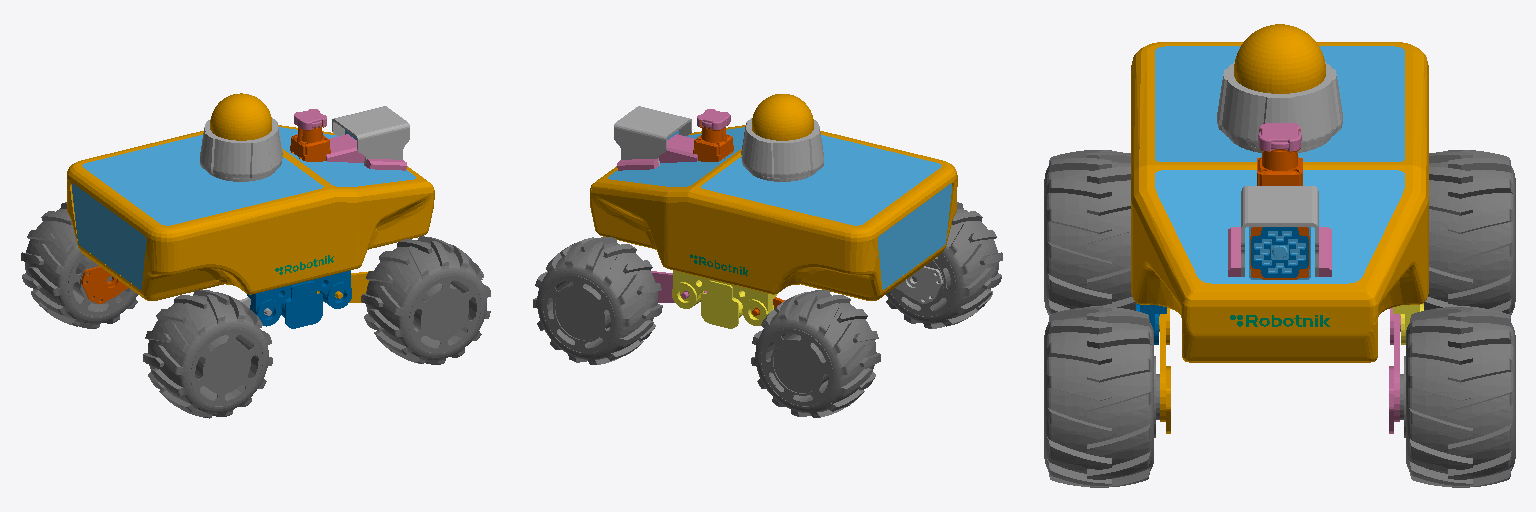
--- What the picture shows (computed from the rendered views, not written in the file) ---
Views: 3 orthographic renders of the robot side by side, from view 1: azimuth 30°, elevation 25°; view 2: azimuth 150°, elevation 25°; view 3: azimuth 270°, elevation 25°.
Robot: summit_xl — 32 links, 31 joints (8 continuous, 23 fixed); root link base_link; default pose: all joints at 0.
Visible links, largest first — view 1: base_link, cover_link, front_right_tyre, back_right_tyre, back_left_tyre, bar_holder_right, camera_link, back_right_hubcap, front_right_hubcap, fotonic_5_link, camera_link_sphere, fotonic_4_link (+4 smaller); view 2: base_link, cover_link, back_left_tyre, front_left_tyre, back_right_tyre, bar_holder_left, camera_link, fotonic_5_link, camera_link_sphere, front_left_wheel, back_left_wheel, back_left_hubcap (+7 smaller); view 3: base_link, cover_link, front_right_tyre, front_left_tyre, back_left_tyre, back_right_tyre, camera_link, camera_link_sphere, fotonic_5_link, hokuyo_laser_link, fotonic_2_link, fotonic_4_link (+6 smaller).
Boxes of the visible links, x1=… form: base_link: x1=67, y1=125, x2=434, y2=300; cover_link: x1=72, y1=127, x2=415, y2=289; front_right_tyre: x1=361, y1=236, x2=490, y2=364; back_right_tyre: x1=143, y1=290, x2=272, y2=418; back_left_tyre: x1=21, y1=202, x2=137, y2=328; bar_holder_right: x1=247, y1=270, x2=351, y2=328; camera_link: x1=200, y1=118, x2=282, y2=181; back_right_hubcap: x1=191, y1=329, x2=262, y2=405; front_right_hubcap: x1=409, y1=276, x2=480, y2=352; fotonic_5_link: x1=332, y1=106, x2=409, y2=165; camera_link_sphere: x1=210, y1=93, x2=271, y2=140; fotonic_4_link: x1=326, y1=134, x2=406, y2=170; base_link: x1=590, y1=125, x2=957, y2=300; cover_link: x1=608, y1=127, x2=951, y2=289; back_left_tyre: x1=751, y1=290, x2=880, y2=417; front_left_tyre: x1=533, y1=237, x2=662, y2=364; back_right_tyre: x1=886, y1=202, x2=1002, y2=328; bar_holder_left: x1=672, y1=270, x2=776, y2=328; camera_link: x1=741, y1=118, x2=823, y2=181; fotonic_5_link: x1=614, y1=106, x2=691, y2=165; camera_link_sphere: x1=752, y1=94, x2=813, y2=140; front_left_wheel: x1=555, y1=284, x2=610, y2=339; back_left_wheel: x1=774, y1=334, x2=828, y2=392; back_left_hubcap: x1=761, y1=329, x2=832, y2=405; base_link: x1=1131, y1=42, x2=1428, y2=362; cover_link: x1=1155, y1=46, x2=1404, y2=283; front_right_tyre: x1=1044, y1=307, x2=1153, y2=487; front_left_tyre: x1=1406, y1=307, x2=1515, y2=487; back_left_tyre: x1=1424, y1=150, x2=1515, y2=316; back_right_tyre: x1=1044, y1=150, x2=1135, y2=316; camera_link: x1=1217, y1=62, x2=1342, y2=152; camera_link_sphere: x1=1234, y1=24, x2=1325, y2=93; fotonic_5_link: x1=1241, y1=186, x2=1318, y2=276; hokuyo_laser_link: x1=1257, y1=129, x2=1302, y2=185; fotonic_2_link: x1=1251, y1=227, x2=1308, y2=277; fotonic_4_link: x1=1228, y1=227, x2=1331, y2=276.
Size in the robot's own frame: 0.7159 by 0.6105 by 0.5173 metres.
Meshes: 18 distinct files referenced, 30 mesh visuals loaded (18 Collada DAE).

The robot description file, URDF, robot "summit_xl":
<?xml version="1.0" ?>
<!-- =================================================================================== -->
<!-- |    This document was autogenerated by xacro from summit_xl_vrep.urdf.xacro      | -->
<!-- |    EDITING THIS FILE BY HAND IS NOT RECOMMENDED                                 | -->
<!-- =================================================================================== -->
<robot name="summit_xl" xmlns:xacro="http://www.ros.org/wiki/xacro">
  <!-- Import all Gazebo-customization elements, including Gazebo colors -->
  <!-- xacro:include filename="$(find summit_xl_description)/urdf/summit_xl_hq.gazebo" / -->
  <!-- Robot mechanical and motor parameters -->
  <!-- x,y,z in base_footprint CS -->
  <!-- BASE_LINK (RED) -->
  <link name="base_link">
    <inertial>
      <mass value="25.0"/>
      <origin xyz="0 0 0"/>
      <inertia ixx="1.391" ixy="0.004" ixz="0.0" iyy="6.853" iyz="0.0" izz="6.125"/>
    </inertial>
    <visual>
      <origin rpy="0 0 0" xyz="0 0 0"/>
      <geometry>
        <mesh filename="package://meshes/hq_suspension/xl_chassis.dae"/>
      </geometry>
    </visual>
    <collision>
      <origin rpy="0 0 0 " xyz="0 0 0"/>
      <geometry>
        <mesh filename="package://meshes/hq_suspension/xl_chassis.dae"/>
      </geometry>
    </collision>
  </link>
  <!-- Robot covers (gray) -->
  <link name="cover_link">
    <inertial>
      <mass value="0.1"/>
      <origin xyz="0 0 0"/>
      <inertia ixx="0.001" ixy="0.0" ixz="0.0" iyy="0.001" iyz="0.0" izz="0.001"/>
    </inertial>
    <visual>
      <origin rpy="0 0 0" xyz="0 0 0"/>
      <geometry>
        <mesh filename="package://meshes/hq_suspension/xl_covers.dae"/>
      </geometry>
    </visual>
    <collision>
      <origin rpy="0 0 0 " xyz="0 0 0"/>
      <geometry>
        <mesh filename="package://meshes/hq_suspension/xl_covers.dae"/>
      </geometry>
    </collision>
  </link>
  <joint name="covers_joint" type="fixed">
    <origin rpy="0 0 0" xyz="0 0 0"/>
    <parent link="base_link"/>
    <child link="cover_link"/>
  </joint>
  <!-- ROBOTNIK LOGOS -->
  <!-- RED -->
  <link name="logo_red">
    <inertial>
      <mass value="1.0"/>
      <origin xyz="0 0 0"/>
      <inertia ixx="0.001" ixy="0.0" ixz="0.0" iyy="0.001" iyz="0.0" izz="0.001"/>
    </inertial>
    <visual>
      <origin rpy="0 0 0" xyz="0 0 0"/>
      <geometry>
        <mesh filename="package://meshes/hq_suspension/xl_logo_red.dae"/>
      </geometry>
    </visual>
    <!-- collision>
       <origin xyz="0 0 0" rpy="0 0 0 " />
       <geometry>
	     <box size = "0.001 0.001 0.001"/>
       </geometry>
    </collision -->
  </link>
  <joint name="logo_red_joint" type="fixed">
    <origin rpy="0 0 0" xyz="0 0 0"/>
    <parent link="base_link"/>
    <child link="logo_red"/>
  </joint>
  <!-- SUSPENSION BAR HOLDER -->
  <link name="bar_holder_left">
    <inertial>
      <mass value="1.0"/>
      <origin xyz="0 0 0"/>
      <inertia ixx="0.001" ixy="0.0" ixz="0.0" iyy="0.001" iyz="0.0" izz="0.001"/>
    </inertial>
    <visual>
      <origin rpy="0 0 0" xyz="0 0 0"/>
      <geometry>
        <mesh filename="package://meshes/hq_suspension/bar_holder.dae"/>
      </geometry>
    </visual>
    <collision>
      <origin rpy="0 0 0 " xyz="0 0 0"/>
      <geometry>
        <mesh filename="package://meshes/hq_suspension/bar_holder.dae"/>
        <!-- box size = "0.750 0.4 0.3"/ -->
      </geometry>
    </collision>
  </link>
  <joint name="bar_holder_left_joint" type="fixed">
    <origin rpy="0 0 0" xyz="0 0.164 0.0"/>
    <parent link="base_link"/>
    <child link="bar_holder_left"/>
  </joint>
  <!-- SUSPENSION BAR HOLDER -->
  <link name="bar_holder_right">
    <inertial>
      <mass value="1.0"/>
      <origin xyz="0 0 0"/>
      <inertia ixx="0.001" ixy="0.0" ixz="0.0" iyy="0.001" iyz="0.0" izz="0.001"/>
    </inertial>
    <visual>
      <origin rpy="0 0 0" xyz="0 0 0"/>
      <geometry>
        <mesh filename="package://meshes/hq_suspension/bar_holder.dae"/>
      </geometry>
    </visual>
    <collision>
      <origin rpy="0 0 0 " xyz="0 0 0"/>
      <geometry>
        <mesh filename="package://meshes/hq_suspension/bar_holder.dae"/>
      </geometry>
    </collision>
  </link>
  <joint name="bar_holder_right_joint" type="fixed">
    <origin rpy="0 0 3.1416" xyz="0 -0.164 0.0"/>
    <parent link="base_link"/>
    <child link="bar_holder_right"/>
  </joint>
  <!-- SUSPENSION BARS -->
  <!-- SUSPENSION BARS -->
  <!-- SUSPENSION BARS -->
  <!-- SUSPENSION BARS -->
  <!-- SUSPENSION BAR BL -->
  <link name="bar_bl">
    <inertial>
      <mass value="1.0"/>
      <origin xyz="0 0 0"/>
      <inertia ixx="0.001" ixy="0.0" ixz="0.0" iyy="0.001" iyz="0.0" izz="0.001"/>
    </inertial>
    <visual>
      <origin rpy="0 0 0" xyz="0 0 0"/>
      <geometry>
        <mesh filename="package://meshes/hq_suspension/suspension_bar2.dae"/>
      </geometry>
    </visual>
    <collision>
      <origin rpy="0 0 0 " xyz="0 0 0"/>
      <geometry>
        <mesh filename="package://meshes/hq_suspension/suspension_bar2.dae"/>
      </geometry>
    </collision>
  </link>
  <joint name="bar_bl_joint" type="continuous">
    <axis xyz="0 0 1"/>
    <!-- origin xyz="-0.078 0.164 -0.048" rpy="0 0 0" / -->
    <!-- origin xyz="-0.078 0.164 -0.048" rpy="-1.5708 -0.174532925 0" / -->
    <origin rpy="1.5708 -0.174532925 0" xyz="-0.078 0.164 -0.048"/>
    <parent link="base_link"/>
    <child link="bar_bl"/>
    <limit effort="100.0" lower="-0.45" upper="-0.25" velocity="100.0"/>
  </joint>
  <!-- SUSPENSION BAR FL -->
  <link name="bar_fl">
    <inertial>
      <mass value="1.0"/>
      <origin xyz="0 0 0"/>
      <inertia ixx="0.001" ixy="0.0" ixz="0.0" iyy="0.001" iyz="0.0" izz="0.001"/>
    </inertial>
    <visual>
      <origin rpy="0 0 0" xyz="0 0 0"/>
      <geometry>
        <mesh filename="package://meshes/hq_suspension/suspension_bar1.dae"/>
      </geometry>
    </visual>
    <collision>
      <origin rpy="0 0 0 " xyz="0 0 0"/>
      <geometry>
        <mesh filename="package://meshes/hq_suspension/suspension_bar1.dae"/>
      </geometry>
    </collision>
  </link>
  <joint name="bar_fl_joint" type="continuous">
    <axis xyz="0 0 1"/>
    <origin rpy="1.5708 -0.174532925 3.1416" xyz="0.078 0.164 -0.048"/>
    <parent link="base_link"/>
    <child link="bar_fl"/>
    <limit effort="100.0" lower="0.25" upper="0.45" velocity="100.0"/>
  </joint>
  <!-- SUSPENSION BAR BR -->
  <link name="bar_br">
    <inertial>
      <mass value="1.0"/>
      <origin xyz="0 0 0"/>
      <inertia ixx="0.001" ixy="0.0" ixz="0.0" iyy="0.001" iyz="0.0" izz="0.001"/>
    </inertial>
    <visual>
      <origin rpy="0 0 0" xyz="0 0 0"/>
      <geometry>
        <mesh filename="package://meshes/hq_suspension/suspension_bar1.dae"/>
      </geometry>
    </visual>
    <collision>
      <origin rpy="0 0 0 " xyz="0 0 0"/>
      <geometry>
        <mesh filename="package://meshes/hq_suspension/suspension_bar1.dae"/>
      </geometry>
    </collision>
  </link>
  <joint name="bar_br_joint" type="continuous">
    <axis xyz="0 0 1"/>
    <origin rpy="1.5708 -0.174532925 0" xyz="-0.078 -0.164 -0.048"/>
    <parent link="base_link"/>
    <child link="bar_br"/>
    <limit effort="100.0" lower="-0.45" upper="-0.25" velocity="100.0"/>
  </joint>
  <!-- SUSPENSION BAR FR -->
  <link name="bar_fr">
    <inertial>
      <mass value="1.0"/>
      <origin xyz="0 0 0"/>
      <inertia ixx="0.001" ixy="0.0" ixz="0.0" iyy="0.001" iyz="0.0" izz="0.001"/>
    </inertial>
    <visual>
      <origin rpy="0 0 0" xyz="0 0 0"/>
      <geometry>
        <mesh filename="package://meshes/hq_suspension/suspension_bar2.dae"/>
      </geometry>
    </visual>
    <collision>
      <origin rpy="0 0 0 " xyz="0 0 0"/>
      <geometry>
        <mesh filename="package://meshes/hq_suspension/suspension_bar2.dae"/>
      </geometry>
    </collision>
  </link>
  <joint name="bar_fr_joint" type="continuous">
    <axis xyz="0 0 1"/>
    <!-- origin xyz="0.078 -0.164 -0.048" rpy="-1.5708 -0.174532925 3.1416" / -->
    <origin rpy="1.5708 -0.174532925 3.1416" xyz="0.078 -0.164 -0.048"/>
    <parent link="base_link"/>
    <child link="bar_fr"/>
    <limit effort="100.0" lower="0.25" upper="0.45" velocity="100.0"/>
  </joint>
  <!-- WHEEL MOTORS -->
  <!-- WHEEL MOTORS -->
  <!-- WHEEL MOTORS -->
  <!-- WHEEL MOTORS -->
  <!-- BACK LEFT WHEEL (GREY) -->
  <link name="back_left_wheel">
    <inertial>
      <mass value="1.250"/>
      <origin xyz="0 0 0"/>
      <inertia ixx="0.0109375" ixy="0.0" ixz="0.0" iyy="0.021125" iyz="0.0" izz="0.0109375"/>
    </inertial>
    <visual>
      <origin rpy="0 0 3.1416" xyz="0 0 0"/>
      <geometry>
        <mesh filename="package://meshes/hq_suspension/wheel/xl_wheel_motor.dae" scale="1.0 1.0 1.0"/>
        <!-- cylinder radius="0.125" length="0.1"/ -->
      </geometry>
      <material name="grey">
        <color rgba="0.5 0.5 0.5 1"/>
      </material>
    </visual>
    <collision>
      <origin rpy="0 0 0" xyz="0 0 0"/>
      <geometry>
        <mesh filename="package://meshes/hq_suspension/wheel/xl_wheel_motor.dae" scale="1.0 1.0 1.0"/>
        <!-- cylinder radius="0.125" length="0.1"/ -->
      </geometry>
    </collision>
  </link>
  <joint name="joint_back_left_wheel" type="continuous">
    <parent link="bar_bl"/>
    <child link="back_left_wheel"/>
    <!-- origin xyz="-${wheel_offset_x} ${wheel_offset_y} 0" rpy="1.5708 0 0" / -->
    <origin rpy="1.5708 3.1416 0" xyz="-0.165 0.0 -0.07"/>
    <axis rpy="0 0 0" xyz="0 1 0"/>
    <limit effort="100.0" velocity="100.0"/>
    <joint_properties damping="0.0" friction="{wheel_joint_friction}"/>
  </joint>
  <transmission name="joint_blw_trans">
    <type>transmission_interface/SimpleTransmission</type>
    <joint name="joint_back_left_wheel"/>
    <actuator name="joint_blw_motor">
      <hardwareInterface>EffortJointInterface</hardwareInterface>
      <!-- hardwareInterface>VelocityJointInterface</hardwareInterface -->
      <mechanicalReduction>1.0</mechanicalReduction>
      <!-- motorTorqueConstant>1</motorTorqueConstant -->
    </actuator>
  </transmission>
  <!-- BACK RIGHT WHEEL (GREY) -->
  <link name="back_right_wheel">
    <inertial>
      <mass value="1.250"/>
      <origin xyz="0 0 0"/>
      <inertia ixx="0.0109375" ixy="0.0" ixz="0.0" iyy="0.021125" iyz="0.0" izz="0.0109375"/>
    </inertial>
    <visual>
      <origin rpy="0 0 3.1416" xyz="0 0 0"/>
      <geometry>
        <mesh filename="package://meshes/hq_suspension/wheel/xl_wheel_motor.dae" scale="1.0 1.0 1.0"/>
      </geometry>
      <material name="grey">
        <color rgba="0.5 0.5 0.5 1"/>
      </material>
    </visual>
    <collision>
      <origin rpy="0 0 0" xyz="0 0 0"/>
      <geometry>
        <mesh filename="package://meshes/hq_suspension/wheel/xl_wheel_motor.dae" scale="1.0 1.0 1.0"/>
      </geometry>
    </collision>
  </link>
  <joint name="joint_back_right_wheel" type="continuous">
    <parent link="bar_br"/>
    <child link="back_right_wheel"/>
    <!-- origin xyz="-${wheel_offset_x} -${wheel_offset_y} 0" rpy="0 0 3.1416" /> 
    <axis xyz="0 1 0" rpy="0 0 3.1416" / -->
    <origin rpy="1.5708 0 1.5708" xyz="-0.165 -0.0 0.07"/>
    <axis rpy="0 0 0" xyz="0 1 0"/>
    <limit effort="100.0" velocity="100.0"/>
    <joint_properties damping="0.0" friction="{wheel_joint_friction}"/>
  </joint>
  <transmission name="joint_brw_trans">
    <type>transmission_interface/SimpleTransmission</type>
    <joint name="joint_back_right_wheel"/>
    <actuator name="joint_brw_motor">
      <hardwareInterface>EffortJointInterface</hardwareInterface>
      <mechanicalReduction>1.0</mechanicalReduction>
    </actuator>
  </transmission>
  <!-- FRONT LEFT WHEEL (GREY) -->
  <link name="front_left_wheel">
    <inertial>
      <mass value="1.250"/>
      <origin xyz="0 0 0"/>
      <inertia ixx="0.0109375" ixy="0.0" ixz="0.0" iyy="0.021125" iyz="0.0" izz="0.0109375"/>
    </inertial>
    <visual>
      <origin rpy="0 0 3.1416" xyz="0 0 0"/>
      <geometry>
        <mesh filename="package://meshes/hq_suspension/wheel/xl_wheel_motor.dae" scale="1.0 1.0 1.0"/>
      </geometry>
      <material name="grey">
        <color rgba="0.5 0.5 0.5 1"/>
      </material>
    </visual>
    <collision>
      <origin rpy="0 0 0" xyz="0 0 0"/>
      <geometry>
        <mesh filename="package://meshes/hq_suspension/wheel/xl_wheel_motor.dae" scale="1.0 1.0 1.0"/>
        <!-- cylinder radius="0.125" length="0.1"/ -->
      </geometry>
    </collision>
  </link>
  <joint name="joint_front_left_wheel" type="continuous">
    <parent link="bar_fl"/>
    <child link="front_left_wheel"/>
    <origin rpy="1.5708 0 0" xyz="-0.165 0.0 0.07"/>
    <axis rpy="0 0 0" xyz="0 1 0"/>
    <limit effort="100.0" velocity="100.0"/>
    <joint_properties damping="0.0" friction="{wheel_joint_friction}"/>
  </joint>
  <transmission name="joint_flw_trans">
    <type>transmission_interface/SimpleTransmission</type>
    <joint name="joint_front_left_wheel"/>
    <actuator name="joint_flw_motor">
      <hardwareInterface>EffortJointInterface</hardwareInterface>
      <mechanicalReduction>1.0</mechanicalReduction>
    </actuator>
  </transmission>
  <!-- FRONT RIGHT WHEEL (GREY) -->
  <link name="front_right_wheel">
    <inertial>
      <mass value="1.250"/>
      <origin xyz="0 0 0"/>
      <inertia ixx="0.0109375" ixy="0.0" ixz="0.0" iyy="0.021125" iyz="0.0" izz="0.0109375"/>
    </inertial>
    <visual>
      <origin rpy="0 0 3.1416" xyz="0 0 0"/>
      <geometry>
        <mesh filename="package://meshes/hq_suspension/wheel/xl_wheel_motor.dae" scale="1.0 1.0 1.0"/>
      </geometry>
      <material name="grey">
        <color rgba="0.5 0.5 0.5 1"/>
      </material>
    </visual>
    <collision>
      <origin rpy="0 0 0" xyz="0 0 0"/>
      <geometry>
        <mesh filename="package://meshes/hq_suspension/wheel/xl_wheel_motor.dae" scale="1.0 1.0 1.0"/>
      </geometry>
    </collision>
  </link>
  <joint name="joint_front_right_wheel" type="continuous">
    <parent link="bar_fr"/>
    <child link="front_right_wheel"/>
    <origin rpy="1.5708 3.1416 0" xyz="-0.165 -0.0 -0.07"/>
    <axis rpy="0 0 0" xyz="0 1 0"/>
    <limit effort="100.0" velocity="100.0"/>
    <joint_properties damping="0.0" friction="{wheel_joint_friction}"/>
  </joint>
  <transmission name="joint_frw_trans">
    <type>transmission_interface/SimpleTransmission</type>
    <joint name="joint_front_right_wheel"/>
    <actuator name="joint_frw_motor">
      <hardwareInterface>EffortJointInterface</hardwareInterface>
      <mechanicalReduction>1.0</mechanicalReduction>
    </actuator>
  </transmission>
  <!-- WHEEL TYRES -->
  <!-- WHEEL TYRES -->
  <!-- WHEEL TYRES -->
  <!-- WHEEL TYRES -->
  <!-- BACK LEFT TYRE (BLACK) -->
  <link name="back_left_tyre">
    <inertial>
      <mass value="1.250"/>
      <origin xyz="0 0 0"/>
      <inertia ixx="0.0109375" ixy="0.0" ixz="0.0" iyy="0.021125" iyz="0.0" izz="0.0109375"/>
    </inertial>
    <visual>
      <origin rpy="0 0 3.1416" xyz="0 0 0"/>
      <geometry>
        <mesh filename="package://meshes/hq_suspension/wheel/xl_wheel_tyre.dae" scale="1.0 1.0 1.0"/>
      </geometry>
      <material name="grey">
        <color rgba="0.5 0.5 0.5 1"/>
      </material>
    </visual>
    <collision>
      <origin rpy="0 0 0" xyz="0 0 0"/>
      <geometry>
        <mesh filename="package://meshes/hq_suspension/wheel/wheel_simple_thread_2.dae" scale="1.0 1.0 1.0"/>
        <!-- cylinder radius="0.125" length="0.1"/ -->
      </geometry>
    </collision>
  </link>
  <joint name="joint_back_left_tyre" type="fixed">
    <parent link="back_left_wheel"/>
    <child link="back_left_tyre"/>
    <origin rpy="0 0 3.1416" xyz="0 0 0"/>
  </joint>
  <!-- BACK RIGHT TYRE (BLACK) -->
  <link name="back_right_tyre">
    <inertial>
      <mass value="1.250"/>
      <origin xyz="0 0 0"/>
      <inertia ixx="0.0109375" ixy="0.0" ixz="0.0" iyy="0.021125" iyz="0.0" izz="0.0109375"/>
    </inertial>
    <visual>
      <origin rpy="0 0 3.1416" xyz="0 0 0"/>
      <geometry>
        <mesh filename="package://meshes/hq_suspension/wheel/xl_wheel_tyre.dae" scale="1.0 1.0 1.0"/>
      </geometry>
      <material name="grey">
        <color rgba="0.5 0.5 0.5 1"/>
      </material>
    </visual>
    <collision>
      <origin rpy="0 0 0" xyz="0 0 0"/>
      <geometry>
        <mesh filename="package://meshes/hq_suspension/wheel/wheel_simple_thread_2.dae" scale="1.0 1.0 1.0"/>
        <!-- cylinder radius="0.125" length="0.1"/ -->
      </geometry>
    </collision>
  </link>
  <joint name="joint_back_right_tyre" type="fixed">
    <parent link="back_right_wheel"/>
    <child link="back_right_tyre"/>
    <origin rpy="0 0 0" xyz="0 0 0"/>
  </joint>
  <!-- FRONT LEFT TYRE (BLACK) -->
  <link name="front_left_tyre">
    <inertial>
      <mass value="1.250"/>
      <origin xyz="0 0 0"/>
      <inertia ixx="0.0109375" ixy="0.0" ixz="0.0" iyy="0.021125" iyz="0.0" izz="0.0109375"/>
    </inertial>
    <visual>
      <origin rpy="0 0 3.1416" xyz="0 0 0"/>
      <geometry>
        <mesh filename="package://meshes/hq_suspension/wheel/xl_wheel_tyre.dae" scale="1.0 1.0 1.0"/>
      </geometry>
      <material name="grey">
        <color rgba="0.5 0.5 0.5 1"/>
      </material>
    </visual>
    <collision>
      <origin rpy="0 0 0" xyz="0 0 0"/>
      <geometry>
        <mesh filename="package://meshes/hq_suspension/wheel/wheel_simple_thread_2.dae" scale="1.0 1.0 1.0"/>
      </geometry>
    </collision>
  </link>
  <joint name="joint_front_left_tyre" type="fixed">
    <parent link="front_left_wheel"/>
    <child link="front_left_tyre"/>
    <origin rpy="0 0 3.1416" xyz="0 0 0"/>
  </joint>
  <!-- FRONT RIGHT TYRE (BLACK) -->
  <link name="front_right_tyre">
    <inertial>
      <mass value="1.250"/>
      <origin xyz="0 0 0"/>
      <inertia ixx="0.0109375" ixy="0.0" ixz="0.0" iyy="0.021125" iyz="0.0" izz="0.0109375"/>
    </inertial>
    <visual>
      <origin rpy="0 0 3.1416" xyz="0 0 0"/>
      <geometry>
        <mesh filename="package://meshes/hq_suspension/wheel/xl_wheel_tyre.dae" scale="1.0 1.0 1.0"/>
      </geometry>
      <material name="grey">
        <color rgba="0.5 0.5 0.5 1"/>
      </material>
    </visual>
    <collision>
      <origin rpy="0 0 0" xyz="0 0 0"/>
      <geometry>
        <mesh filename="package://meshes/hq_suspension/wheel/wheel_simple_thread_2.dae" scale="1.0 1.0 1.0"/>
      </geometry>
    </collision>
  </link>
  <joint name="joint_front_right_tyre" type="fixed">
    <parent link="front_right_wheel"/>
    <child link="front_right_tyre"/>
    <origin rpy="0 0 0" xyz="0 0 0"/>
  </joint>
  <!-- WHEEL HUBCAPS -->
  <!-- WHEEL HUBCAPS -->
  <!-- WHEEL HUBCAPS -->
  <!-- WHEEL HUBCAPS -->
  <!-- BACK LEFT HUBCUP (LIGHT GREY) -->
  <link name="back_left_hubcap">
    <inertial>
      <mass value="1.250"/>
      <origin xyz="0 0 0"/>
      <inertia ixx="0.0109375" ixy="0.0" ixz="0.0" iyy="0.021125" iyz="0.0" izz="0.0109375"/>
    </inertial>
    <visual>
      <origin rpy="0 0 3.1416" xyz="0 0 0"/>
      <geometry>
        <mesh filename="package://meshes/hq_suspension/wheel/xl_wheel_hubcap.dae" scale="1.0 1.0 1.0"/>
      </geometry>
      <material name="grey">
        <color rgba="0.5 0.5 0.5 1"/>
      </material>
    </visual>
  </link>
  <joint name="joint_back_left_hubcap" type="fixed">
    <parent link="back_left_wheel"/>
    <child link="back_left_hubcap"/>
    <origin rpy="0 0 3.1416" xyz="0 0 0"/>
  </joint>
  <!-- BACK RIGHT HUBCUP (LIGHT GREY) -->
  <link name="back_right_hubcap">
    <inertial>
      <mass value="1.250"/>
      <origin xyz="0 0 0"/>
      <inertia ixx="0.0109375" ixy="0.0" ixz="0.0" iyy="0.021125" iyz="0.0" izz="0.0109375"/>
    </inertial>
    <visual>
      <origin rpy="0 0 3.1416" xyz="0 0 0"/>
      <geometry>
        <mesh filename="package://meshes/hq_suspension/wheel/xl_wheel_hubcap.dae" scale="1.0 1.0 1.0"/>
      </geometry>
      <material name="grey">
        <color rgba="0.5 0.5 0.5 1"/>
      </material>
    </visual>
  </link>
  <joint name="joint_back_right_hubcap" type="fixed">
    <parent link="back_right_wheel"/>
    <child link="back_right_hubcap"/>
    <origin rpy="0 0 0" xyz="0 0 0"/>
  </joint>
  <!-- FRONT LEFT HUBCUP (LIGHT GREY) -->
  <link name="front_left_hubcap">
    <inertial>
      <mass value="1.250"/>
      <origin xyz="0 0 0"/>
      <inertia ixx="0.0109375" ixy="0.0" ixz="0.0" iyy="0.021125" iyz="0.0" izz="0.0109375"/>
    </inertial>
    <visual>
      <origin rpy="0 0 3.1416" xyz="0 0 0"/>
      <geometry>
        <mesh filename="package://meshes/hq_suspension/wheel/xl_wheel_hubcap.dae" scale="1.0 1.0 1.0"/>
      </geometry>
      <material name="grey">
        <color rgba="0.5 0.5 0.5 1"/>
      </material>
    </visual>
  </link>
  <joint name="joint_front_left_hubcap" type="fixed">
    <parent link="front_left_wheel"/>
    <child link="front_left_hubcap"/>
    <origin rpy="0 0 3.1416" xyz="0 0 0"/>
  </joint>
  <!-- FRONT RIGHT HUBCUP (LIGHT GREY) -->
  <link name="front_right_hubcap">
    <inertial>
      <mass value="1.250"/>
      <origin xyz="0 0 0"/>
      <inertia ixx="0.0109375" ixy="0.0" ixz="0.0" iyy="0.021125" iyz="0.0" izz="0.0109375"/>
    </inertial>
    <visual>
      <origin rpy="0 0 3.1416" xyz="0 0 0"/>
      <geometry>
        <mesh filename="package://meshes/hq_suspension/wheel/xl_wheel_hubcap.dae" scale="1.0 1.0 1.0"/>
      </geometry>
      <material name="grey">
        <color rgba="0.5 0.5 0.5 1"/>
      </material>
    </visual>
  </link>
  <joint name="joint_front_right_hubcap" type="fixed">
    <parent link="front_right_wheel"/>
    <child link="front_right_hubcap"/>
    <origin rpy="0 0 0" xyz="0 0 0"/>
  </joint>
  <!-- HOKUYO SENSOR -->
  <link name="hokuyo_laser_link">
    <collision>
      <origin rpy="0 0 0" xyz="0 0 0"/>
      <geometry>
        <box size="0.1 0.1 0.1"/>
      </geometry>
    </collision>
    <visual>
      <origin rpy="0 0 0" xyz="0 0 0"/>
      <geometry>
        <mesh filename="package://meshes/hq_suspension/hokuyo-utm30-lx-hq.dae"/>
      </geometry>
    </visual>
    <inertial>
      <mass value="1e-5"/>
      <origin rpy="0 0 0" xyz="0 0 0"/>
      <inertia ixx="1e-6" ixy="0" ixz="0" iyy="1e-6" iyz="0" izz="1e-6"/>
    </inertial>
  </link>
  <joint name="hokuyo_laser_joint" type="fixed">
    <axis xyz="0 1 0"/>
    <origin xyz="0.120 0.0 0.160"/>
    <parent link="base_link"/>
    <child link="hokuyo_laser_link"/>
  </joint>
  <link name="hokuyo_laser_cover_link">
    <collision>
      <origin rpy="0 0 0" xyz="0 0 0"/>
      <geometry>
        <box size="0.1 0.1 0.1"/>
      </geometry>
    </collision>
    <visual>
      <origin rpy="0 0 0" xyz="0 0 0"/>
      <geometry>
        <mesh filename="package://meshes/hq_suspension/hokuyo-utm30-lx-hq_cover.dae"/>
      </geometry>
    </visual>
    <inertial>
      <mass value="1e-5"/>
      <origin rpy="0 0 0" xyz="0 0 0"/>
      <inertia ixx="1e-6" ixy="0" ixz="0" iyy="1e-6" iyz="0" izz="1e-6"/>
    </inertial>
  </link>
  <joint name="hokuyo_laser_cover_joint" type="fixed">
    <axis xyz="0 1 0"/>
    <origin xyz="0.120 0.0 0.160"/>
    <parent link="base_link"/>
    <child link="hokuyo_laser_cover_link"/>
  </joint>
  <!-- AXIS CAMERA VISUAL -->
  <!-- link name="camera_link" type="camera" -->
  <link name="camera_link" type="camera">
    <inertial>
      <mass value="0.001"/>
      <origin rpy="0 0 0" xyz="0 0 0"/>
      <inertia ixx="0.0001" ixy="0" ixz="0" iyy="0.000001" iyz="0" izz="0.0001"/>
    </inertial>
    <visual>
      <origin rpy="0 0 0" xyz="0 0 0"/>
      <geometry>
        <!-- mesh filename= "package://meshes/xl_fotonic/axis_p5512.dae" scale="1.0 1.0 1.0"/ -->
        <mesh filename="package://meshes/hq_suspension/axis_p5512_base.dae" scale="1.0 1.0 1.0"/>
      </geometry>
    </visual>
    <collision>
      <origin rpy="0 0 0" xyz="0 0 0"/>
      <geometry>
        <!-- mesh filename= "package://meshes/xl_fotonic/axis_p5512.dae" scale="1.0 1.0 1.0"/ -->
        <mesh filename="package://meshes/hq_suspension/axis_p5512_base.dae" scale="1.0 1.0 1.0"/>
      </geometry>
    </collision>
  </link>
  <joint name="camera_joint" type="fixed">
    <axis xyz="0 1 0"/>
    <!-- origin xyz="0.0 0.0 -0.015"/ -->
    <origin xyz="0.0 0.0 -0.115"/>
    <parent link="base_link"/>
    <child link="camera_link"/>
  </joint>
  <!-- AXIS CAMERA VISUAL -->
  <link name="camera_link_sphere" type="camera">
    <inertial>
      <mass value="0.001"/>
      <origin rpy="0 0 0" xyz="0 0 0"/>
      <inertia ixx="0.0001" ixy="0" ixz="0" iyy="0.000001" iyz="0" izz="0.0001"/>
    </inertial>
    <visual>
      <origin rpy="0 0 0" xyz="0 0 0"/>
      <geometry>
        <!-- mesh filename= "package://meshes/xl_fotonic/axis_p5512.dae" scale="1.0 1.0 1.0"/ -->
        <mesh filename="package://meshes/hq_suspension/axis_p5512_sphere.dae" scale="1.0 1.0 1.0"/>
      </geometry>
    </visual>
    <collision>
      <origin rpy="0 0 0" xyz="0 0 0"/>
      <geometry>
        <!-- mesh filename= "package://meshes/xl_fotonic/axis_p5512.dae" scale="1.0 1.0 1.0"/ -->
        <mesh filename="package://meshes/hq_suspension/axis_p5512_sphere.dae" scale="1.0 1.0 1.0"/>
      </geometry>
    </collision>
  </link>
  <joint name="camera_joint_sphere" type="fixed">
    <axis xyz="0 1 0"/>
    <origin xyz="0.0 0.0 -0.115"/>
    <parent link="base_link"/>
    <child link="camera_link_sphere"/>
  </joint>
  <!-- FOTONIC 3D TOF LASER SENSOR -->
  <!-- IN SEVERAL PARTS TO ALLOW SHAPE COLOURS -->
  <joint name="fotonic_laser_joint" type="fixed">
    <axis xyz="0 0 1"/>
    <!-- origin xyz="0.035 0.0 -0.120"/ -->
    <origin xyz="0.0 0.0 0.0"/>
    <parent link="base_link"/>
    <child link="kinect_link"/>
  </joint>
  <link name="kinect_link">
    <inertial>
      <mass value="0.0001"/>
      <origin xyz="0 0 0"/>
      <inertia ixx="0.0001" ixy="0.0" ixz="0.0" iyy="0.0001" iyz="0.0" izz="0.0001"/>
    </inertial>
    <visual>
      <origin rpy="0 0 0" xyz="0 0 0"/>
      <geometry>
        <mesh filename="package://meshes/hq_suspension/fotonic_v1/fotonic_1.dae" scale="1.0 1.0 1.0"/>
      </geometry>
    </visual>
  </link>
  <joint name="kinect_depth_joint" type="fixed">
    <origin rpy="0 0 0" xyz="0.275 0 0.160"/>
    <parent link="kinect_link"/>
    <child link="kinect_depth_frame"/>
  </joint>
  <link name="kinect_depth_frame">
    <inertial>
      <mass value="0.0001"/>
      <origin xyz="0 0 0"/>
      <inertia ixx="0.0001" ixy="0.0" ixz="0.0" iyy="0.0001" iyz="0.0" izz="0.0001"/>
    </inertial>
  </link>
  <joint name="depth_optical_joint" type="fixed">
    <origin rpy="-1.5708 0 -1.5708" xyz="0 0 0"/>
    <parent link="kinect_depth_frame"/>
    <child link="kinect_depth_optical_frame"/>
  </joint>
  <link name="kinect_depth_optical_frame">
    <inertial>
      <mass value="0.0001"/>
      <origin xyz="0 0 0"/>
      <inertia ixx="0.0001" ixy="0.0" ixz="0.0" iyy="0.0001" iyz="0.0" izz="0.0001"/>
    </inertial>
  </link>
  <link name="fotonic_2_link">
    <inertial>
      <mass value="0.0001"/>
      <origin xyz="0 0 0"/>
      <inertia ixx="0.0001" ixy="0.0" ixz="0.0" iyy="0.0001" iyz="0.0" izz="0.0001"/>
    </inertial>
    <visual>
      <origin rpy="0 0 0" xyz="0 0 0"/>
      <geometry>
        <mesh filename="package://meshes/hq_suspension/fotonic_v1/fotonic_2.dae" scale="1.0 1.0 1.0"/>
      </geometry>
    </visual>
  </link>
  <joint name="fotonic_2_joint" type="fixed">
    <origin rpy="0 0 0" xyz="0 0 0"/>
    <parent link="kinect_link"/>
    <child link="fotonic_2_link"/>
  </joint>
  <link name="fotonic_3_link">
    <inertial>
      <mass value="0.0001"/>
      <origin xyz="0 0 0"/>
      <inertia ixx="0.0001" ixy="0.0" ixz="0.0" iyy="0.0001" iyz="0.0" izz="0.0001"/>
    </inertial>
    <visual>
      <origin rpy="0 0 0" xyz="0 0 0"/>
      <geometry>
        <mesh filename="package://meshes/hq_suspension/fotonic_v1/fotonic_3.dae" scale="1.0 1.0 1.0"/>
      </geometry>
    </visual>
  </link>
  <joint name="fotonic_3_joint" type="fixed">
    <origin rpy="0 0 0" xyz="0 0 0"/>
    <parent link="kinect_link"/>
    <child link="fotonic_3_link"/>
  </joint>
  <link name="fotonic_4_link">
    <inertial>
      <mass value="0.0001"/>
      <origin xyz="0 0 0"/>
      <inertia ixx="0.0001" ixy="0.0" ixz="0.0" iyy="0.0001" iyz="0.0" izz="0.0001"/>
    </inertial>
    <visual>
      <origin rpy="0 0 0" xyz="0 0 0"/>
      <geometry>
        <mesh filename="package://meshes/hq_suspension/fotonic_v1/fotonic_4.dae" scale="1.0 1.0 1.0"/>
      </geometry>
    </visual>
  </link>
  <joint name="fotonic_4_joint" type="fixed">
    <origin rpy="0 0 0" xyz="0 0 0"/>
    <parent link="kinect_link"/>
    <child link="fotonic_4_link"/>
  </joint>
  <link name="fotonic_5_link">
    <inertial>
      <mass value="0.0001"/>
      <origin xyz="0 0 0"/>
      <inertia ixx="0.0001" ixy="0.0" ixz="0.0" iyy="0.0001" iyz="0.0" izz="0.0001"/>
    </inertial>
    <visual>
      <origin rpy="0 0 0" xyz="0 0 0"/>
      <geometry>
        <mesh filename="package://meshes/hq_suspension/fotonic_v1/fotonic_5.dae" scale="1.0 1.0 1.0"/>
      </geometry>
    </visual>
    <collision>
      <origin rpy="0 0 0" xyz="0 0 0"/>
      <geometry>
        <mesh filename="package://meshes/hq_suspension/fotonic_v1/fotonic_5.dae" scale="1.0 1.0 1.0"/>
      </geometry>
    </collision>
  </link>
  <joint name="fotonic_5_joint" type="fixed">
    <origin rpy="0 0 0" xyz="0 0 0"/>
    <parent link="kinect_link"/>
    <child link="fotonic_5_link"/>
  </joint>
</robot>
